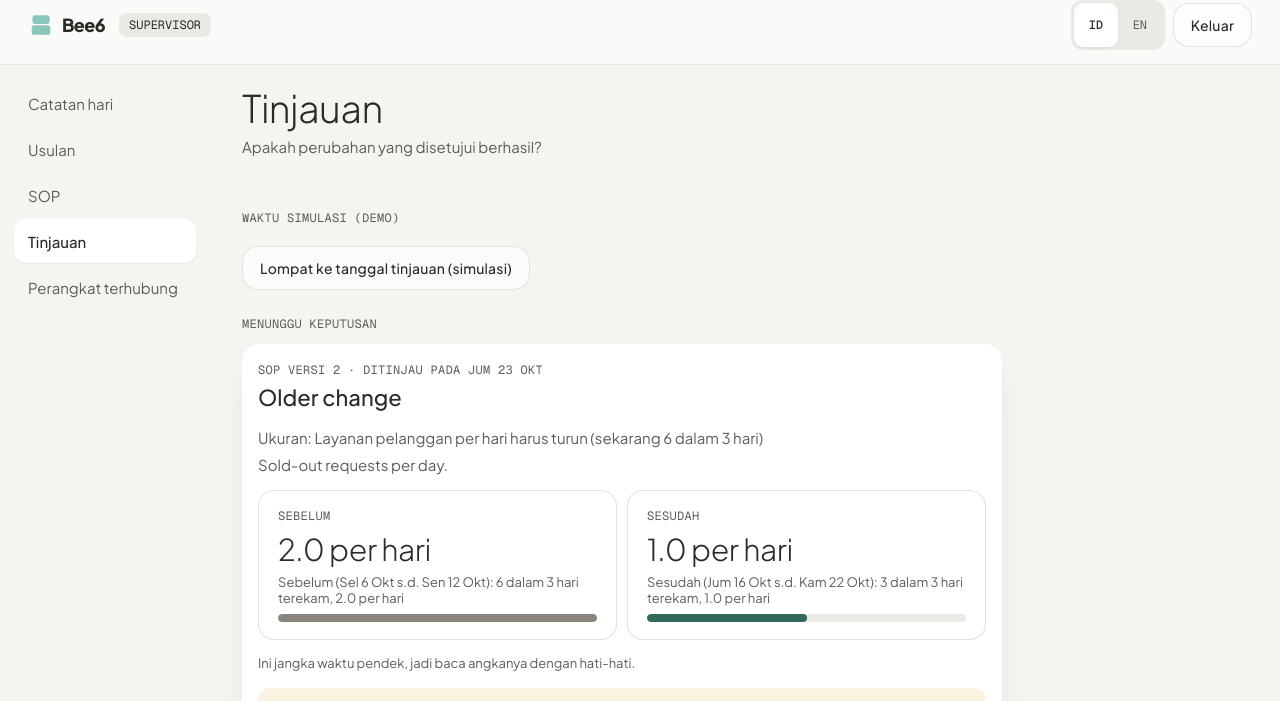
ReviewsApp: a fast-forward result without an explanation › is fixed Bahasa copy on a Bahasa screen
Click the button "Lompat ke tanggal tinjauan (simulasi)". click: (386, 268)
box: [242, 246, 530, 290]
(page scrolled)
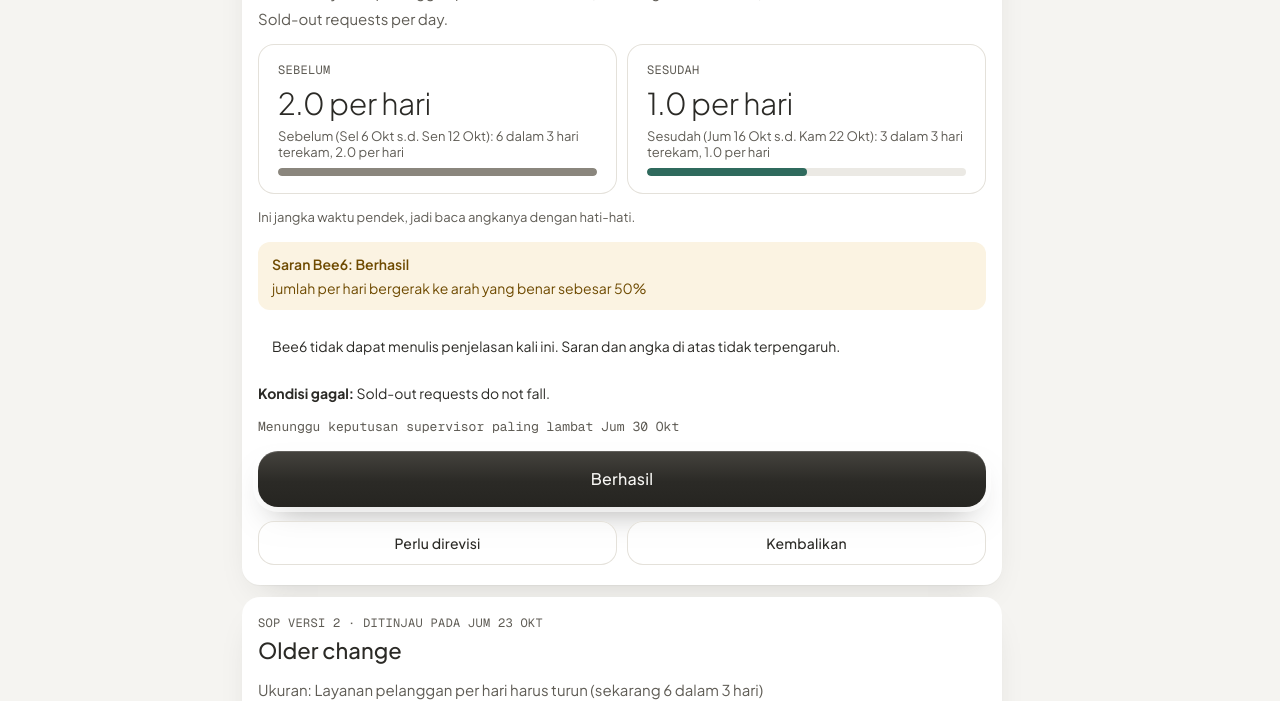
Expected: the text "Bee6 tidak dapat menulis penjelasan kali ini. Saran dan angka di atas tidak terpengaruh." is shown, [272, 337, 840, 355]
